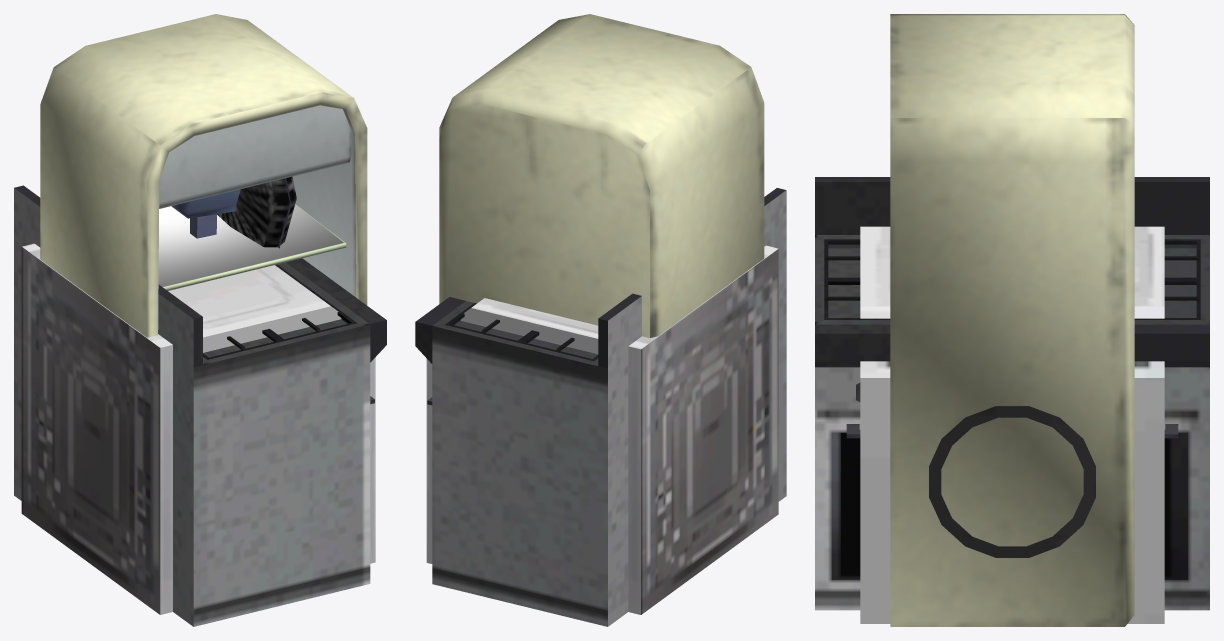
Rendered from AppliancesElectronics_Models.fbx.
3 renders of one model, left to right at view 1: azimuth 30°, elevation 25°; view 2: azimuth 150°, elevation 25°; view 3: azimuth 270°, elevation 25°, orthographic. The views are drawn at different scales.
Visible parts, largest first — view 1: Kitchen_fridge_close, HouseProps_oven, HouseProps_washingMachine, Village_Ventilator; view 2: Kitchen_fridge_close, HouseProps_oven, HouseProps_washingMachine; view 3: Kitchen_fridge_close, HouseProps_oven, HouseProps_washingMachine.
Part boxes in pixels (x1,y1,x2,y2): Kitchen_fridge_close: (40,14,367,337); HouseProps_oven: (14,185,386,626); HouseProps_washingMachine: (21,243,375,614); Village_Ventilator: (171,176,296,248); Kitchen_fridge_close: (439,14,764,338); HouseProps_oven: (415,188,786,626); HouseProps_washingMachine: (426,245,778,614); Kitchen_fridge_close: (890,14,1134,626); HouseProps_oven: (815,177,1209,610); HouseProps_washingMachine: (860,226,1164,623).
Size of the model in its own units: 0.9204 by 1.87 by 1.29.
3 materials, 3 textured.
